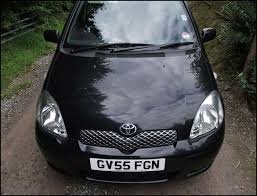Broken-glass: (37, 96, 68, 137)
